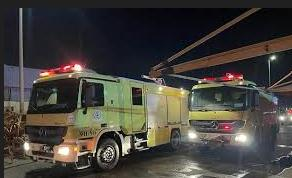firetruck_on: (23, 65, 187, 172), (187, 72, 280, 161)
